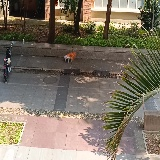fire: (67, 51, 76, 59)
